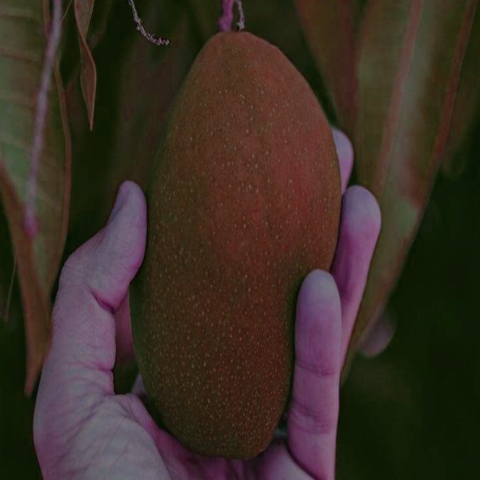mango: (91, 11, 410, 475)
